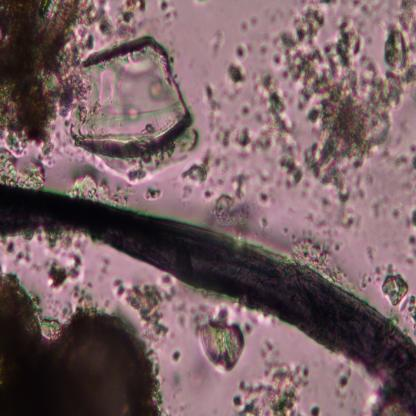Background material: (260, 0, 416, 177), (64, 35, 196, 178), (0, 0, 86, 187), (0, 269, 55, 415), (232, 338, 314, 414), (169, 298, 253, 370), (206, 62, 275, 148), (110, 272, 172, 339), (312, 186, 374, 233), (283, 232, 342, 276), (178, 148, 226, 200), (135, 338, 167, 415), (87, 0, 145, 39), (215, 169, 253, 228), (379, 264, 416, 320), (61, 287, 111, 321), (66, 174, 124, 203), (44, 251, 86, 288), (355, 240, 383, 282), (0, 235, 35, 264), (330, 363, 354, 396), (404, 204, 416, 264), (367, 191, 391, 220), (97, 250, 114, 283), (158, 0, 177, 26), (352, 0, 381, 17), (207, 32, 226, 56), (240, 12, 256, 35), (402, 181, 416, 204), (144, 186, 163, 202), (168, 346, 184, 364), (234, 40, 249, 59), (386, 206, 401, 221), (257, 190, 270, 204), (309, 404, 322, 416)
Cotton: (0, 183, 416, 386)
Diatom: (56, 321, 140, 415)
